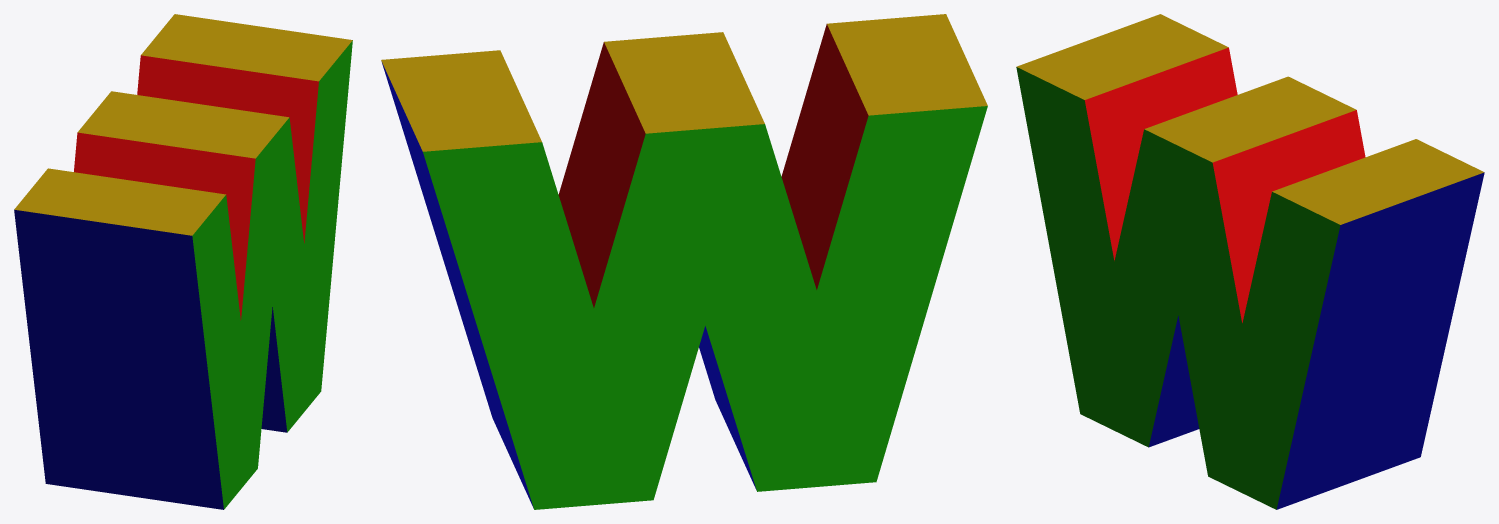
3 renders of one model, left to right at view 1: azimuth 30°, elevation 25°; view 2: azimuth 150°, elevation 25°; view 3: azimuth 270°, elevation 25°, orthographic. The views are drawn at different scales.
Parts seen in each view (by area): view 1: Plane.001_Plane.010; view 2: Plane.001_Plane.010; view 3: Plane.001_Plane.010.
Part boxes in pixels (box(x1,y1,x2,y2)): Plane.001_Plane.010: box(14, 14, 352, 509); Plane.001_Plane.010: box(381, 14, 987, 509); Plane.001_Plane.010: box(1016, 14, 1484, 509).
Bounding box in the file's own units: 130 × 90.46 × 121.
